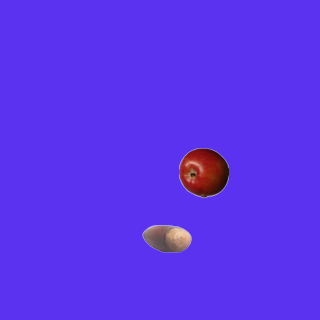Apple Braeburn: (178, 147, 228, 197)
Hazelnut: (141, 213, 191, 263)
